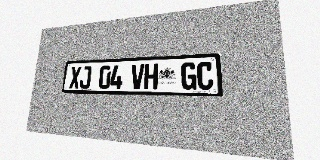0: (98, 65, 111, 89)
4: (110, 65, 123, 89)
C: (197, 61, 213, 90)
G: (181, 62, 197, 90)
H: (144, 64, 158, 90)
J: (79, 66, 92, 89)
V: (130, 64, 144, 89)
X: (69, 66, 81, 89)
